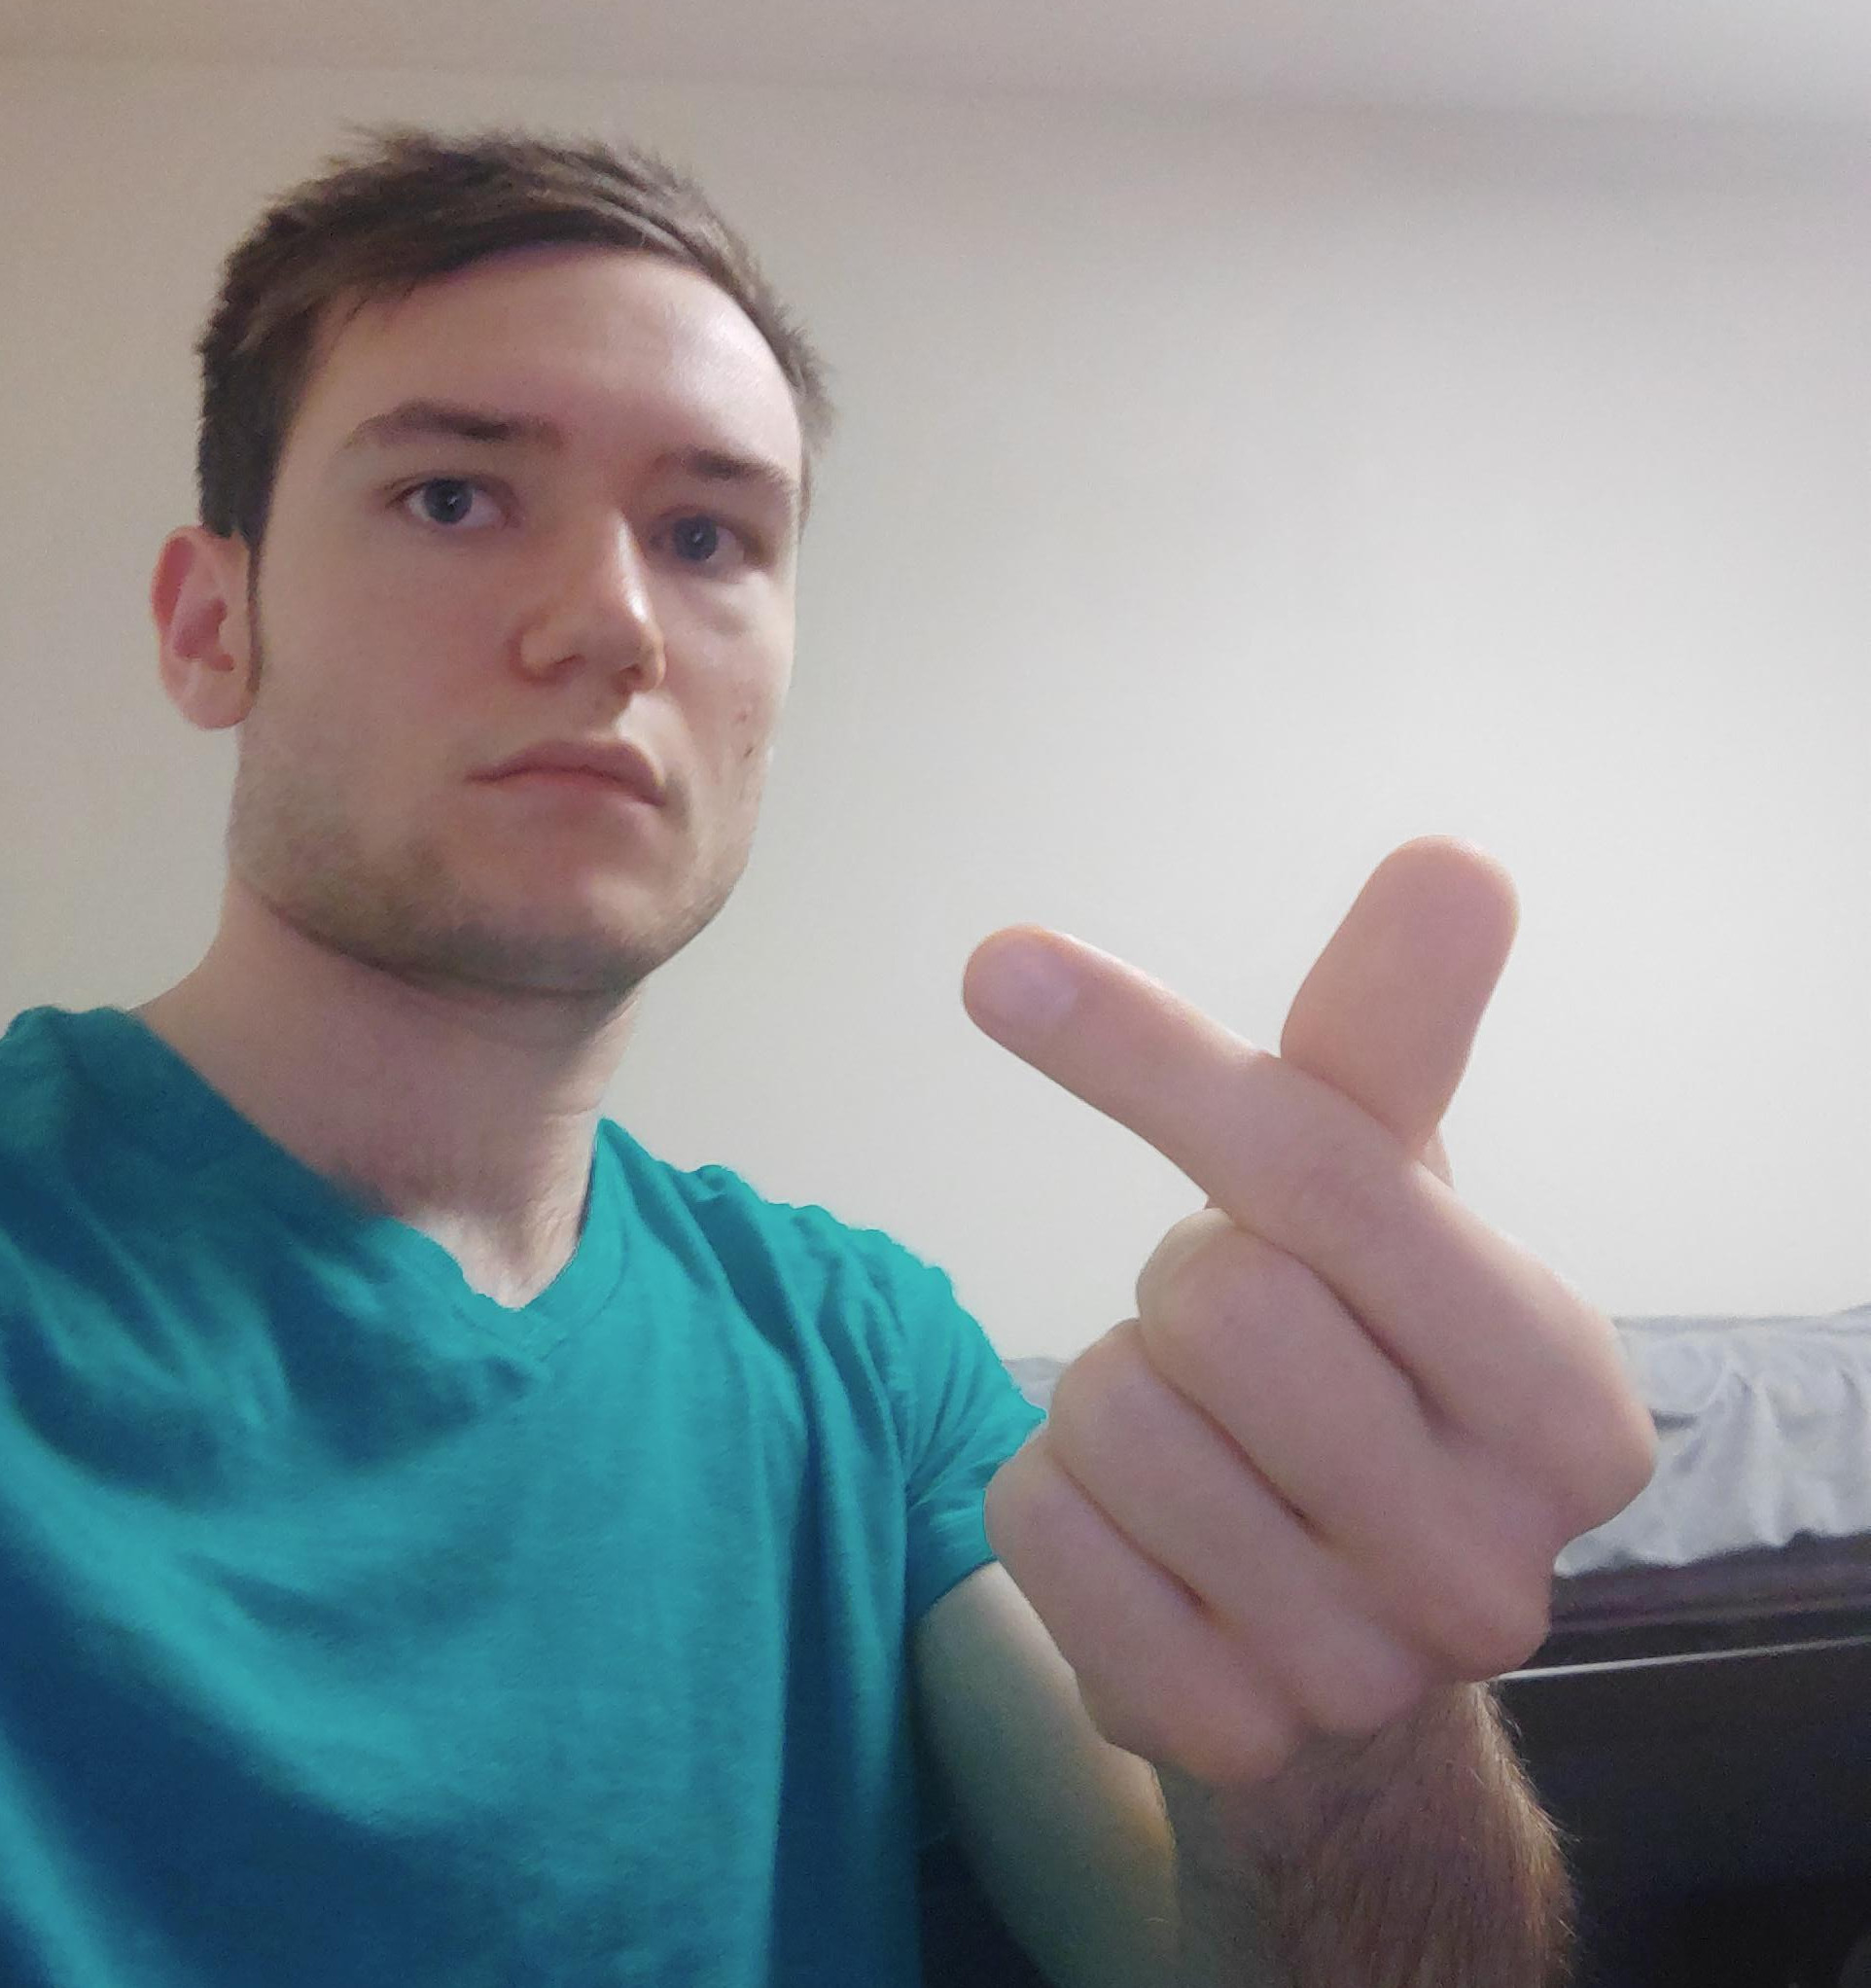heart gesture: (955, 813, 1532, 1217)
